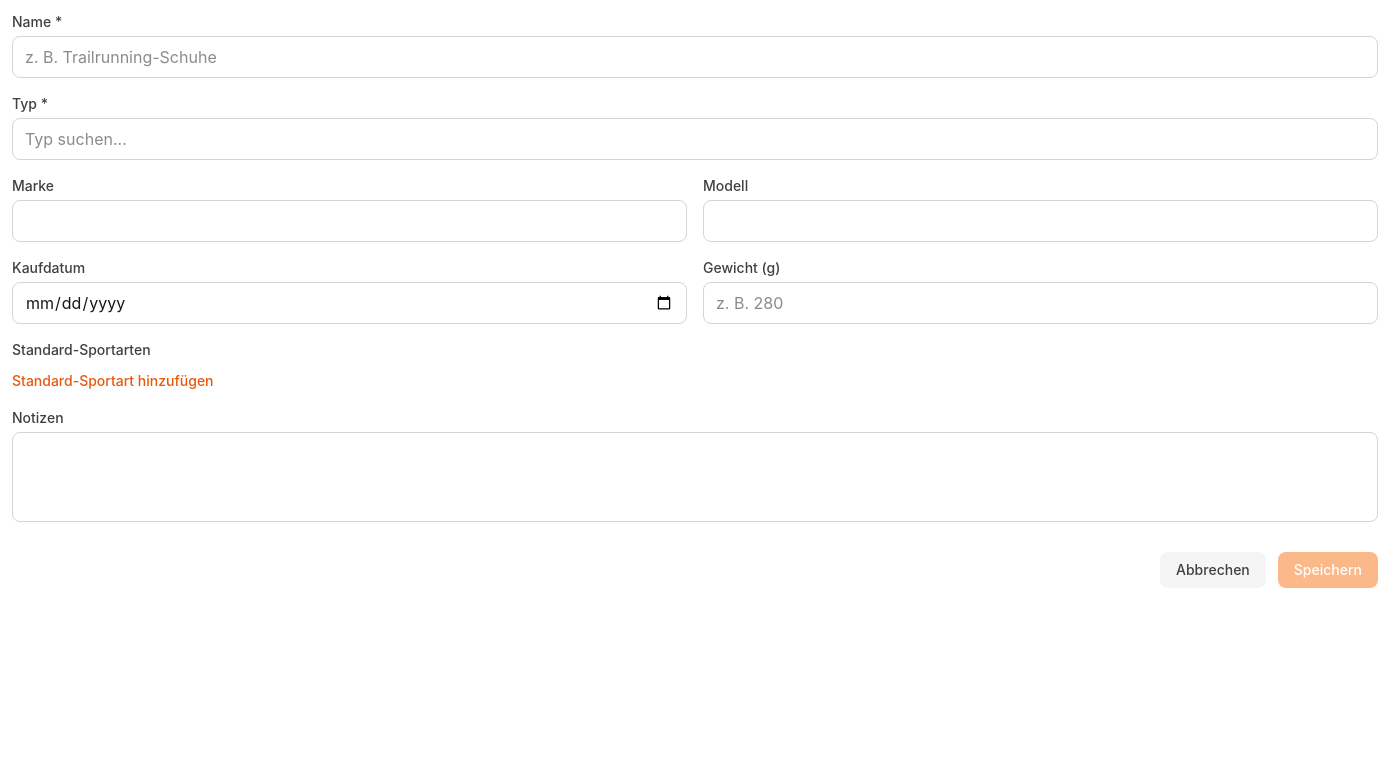
Test: GearForm › shows mountaineering shoe categories and crampon compatibility
Step 1. Focus the dropdown labelled "Typ" → coordinates (695, 139), box [12,118,1378,160]
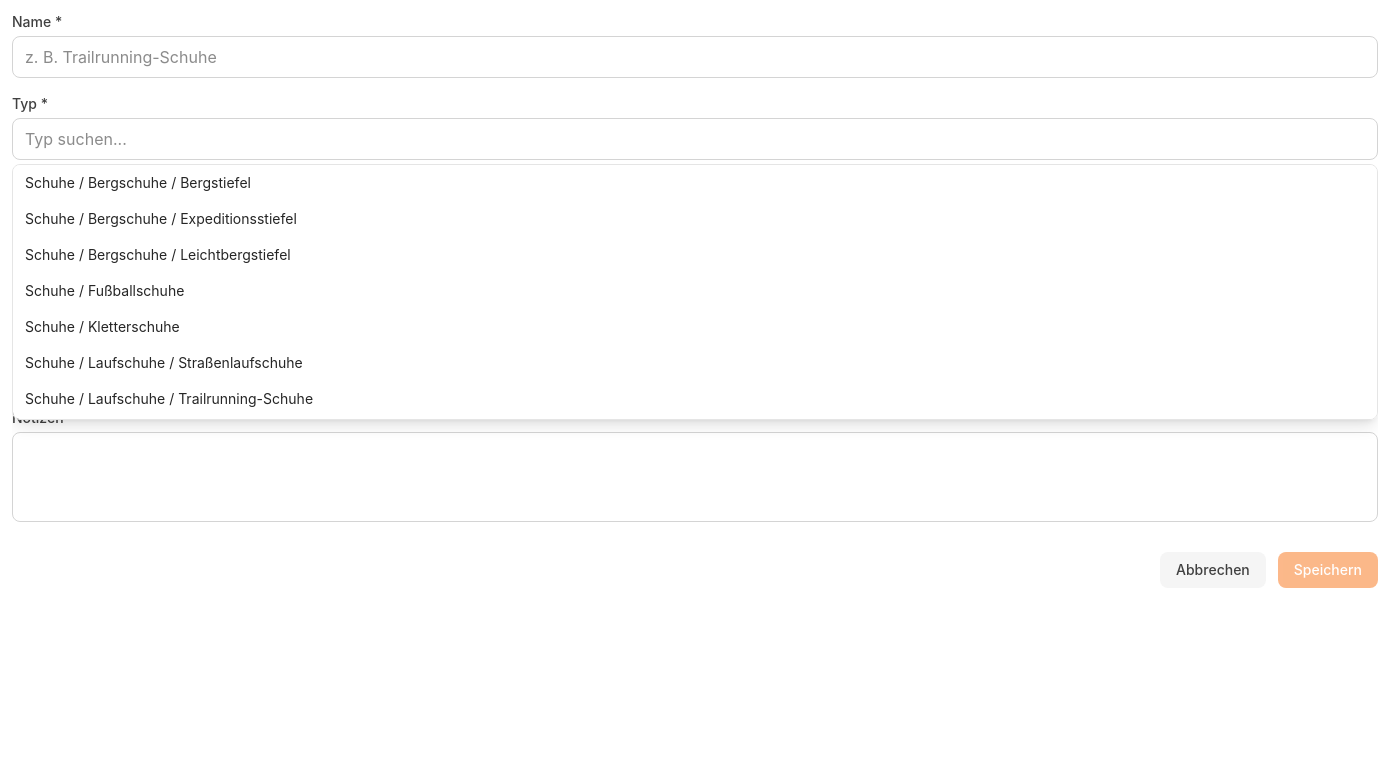
Step 2. Click the option "Schuhe / Bergschuhe / Bergstiefel" → coordinates (138, 182), box [13,165,1377,201]
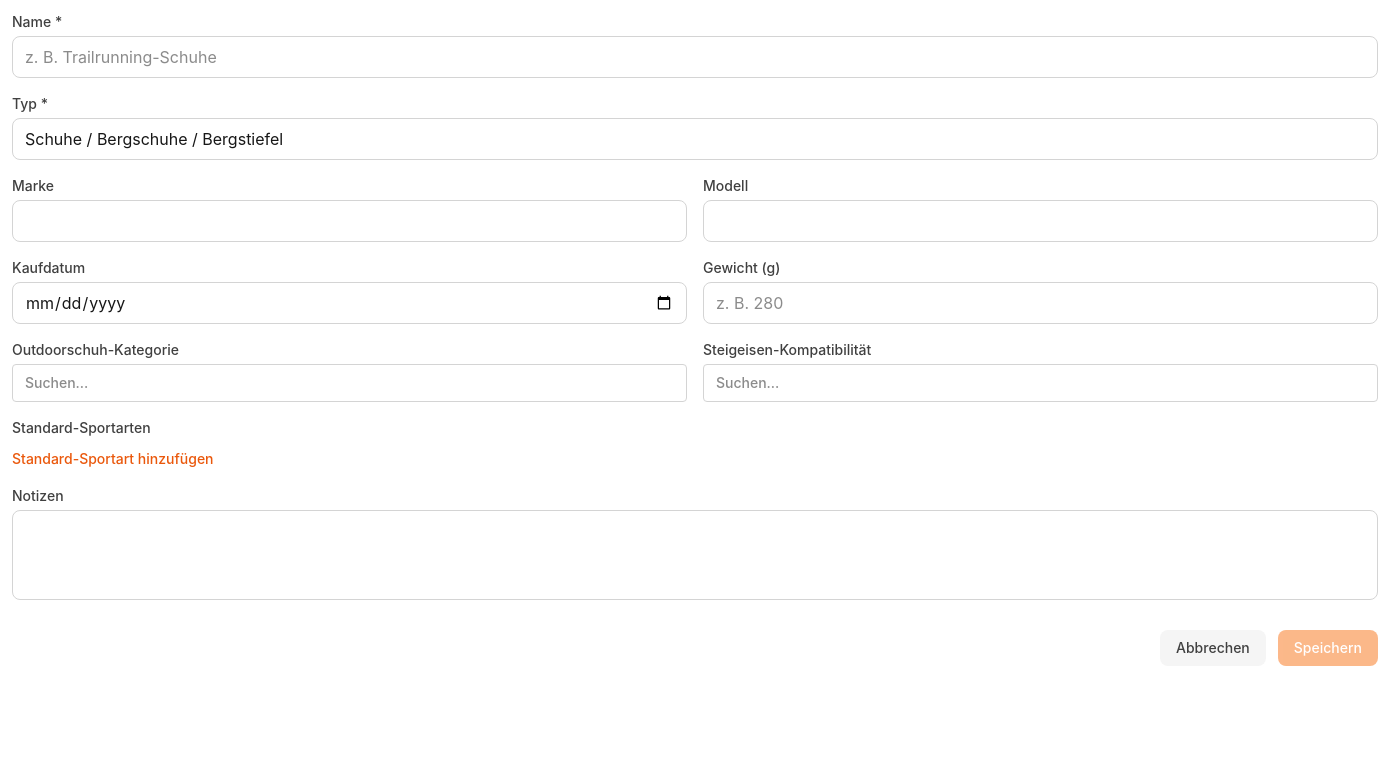
Expected: the dropdown labelled "Outdoorschuh-Kategorie" is shown, [12,364,687,402]
Expected: the dropdown labelled "Steigeisen-Kompatibilität" is shown
Step 3. Focus the dropdown labelled "Steigeisen-Kompatibilität" → coordinates (1040, 383), box [703,364,1378,402]
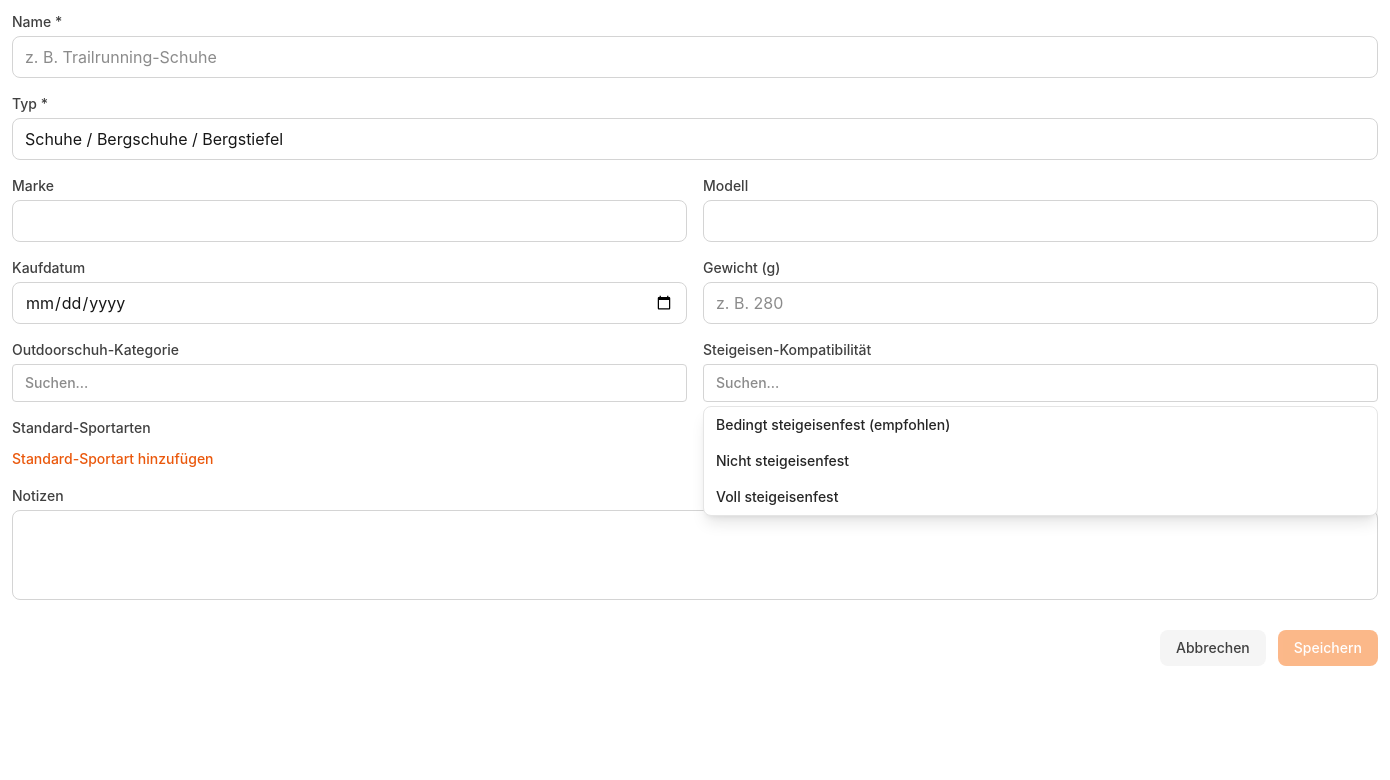
Expected: the option "Bedingt steigeisenfest (empfohlen)" is shown, [704,407,1377,443]
